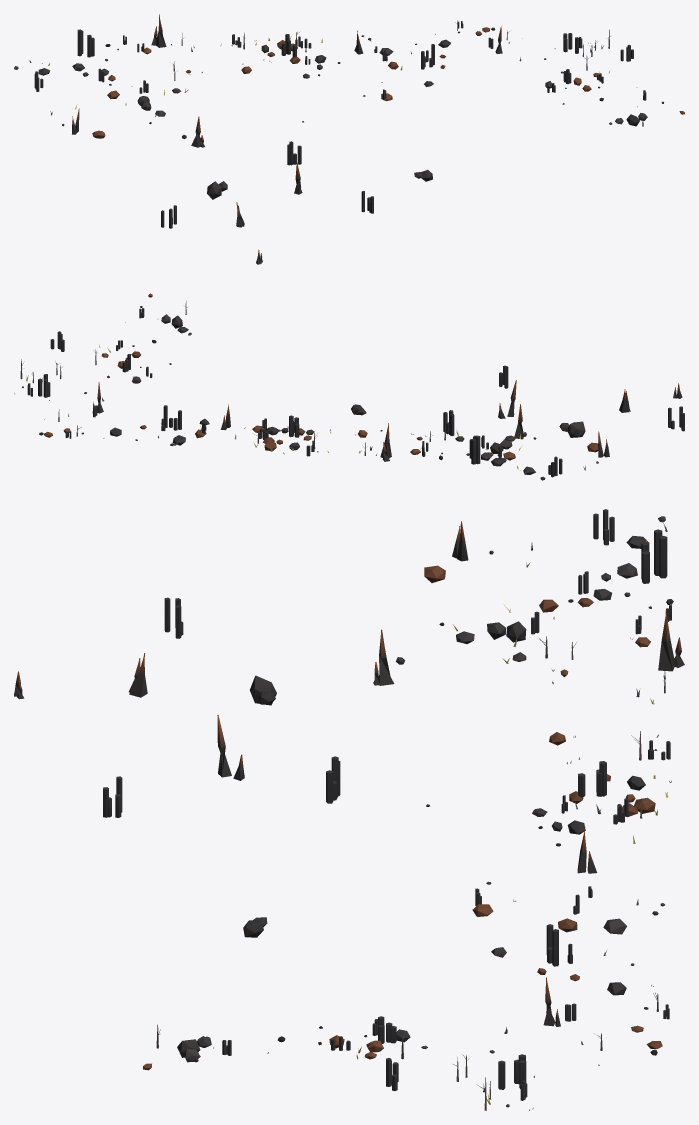
Rendered from ash_land_scatter_c18_28_lod1.glb.
The picture shows the model from 3 angles, top to bottom: view 1: azimuth 30°, elevation 25°; view 2: azimuth 150°, elevation 25°; view 3: azimuth 270°, elevation 25°; orthographic projection. The views are drawn at different scales.
Visible parts, largest first — view 1: ash_land_scatter_c18_28_lod1; view 2: ash_land_scatter_c18_28_lod1; view 3: ash_land_scatter_c18_28_lod1.
Boxes of the visible parts, <box> form: ash_land_scatter_c18_28_lod1: <box>14,14,684,264</box>; ash_land_scatter_c18_28_lod1: <box>14,293,684,480</box>; ash_land_scatter_c18_28_lod1: <box>14,509,684,1110</box>.
Size of the model in its own units: 250 by 52.87 by 153.
